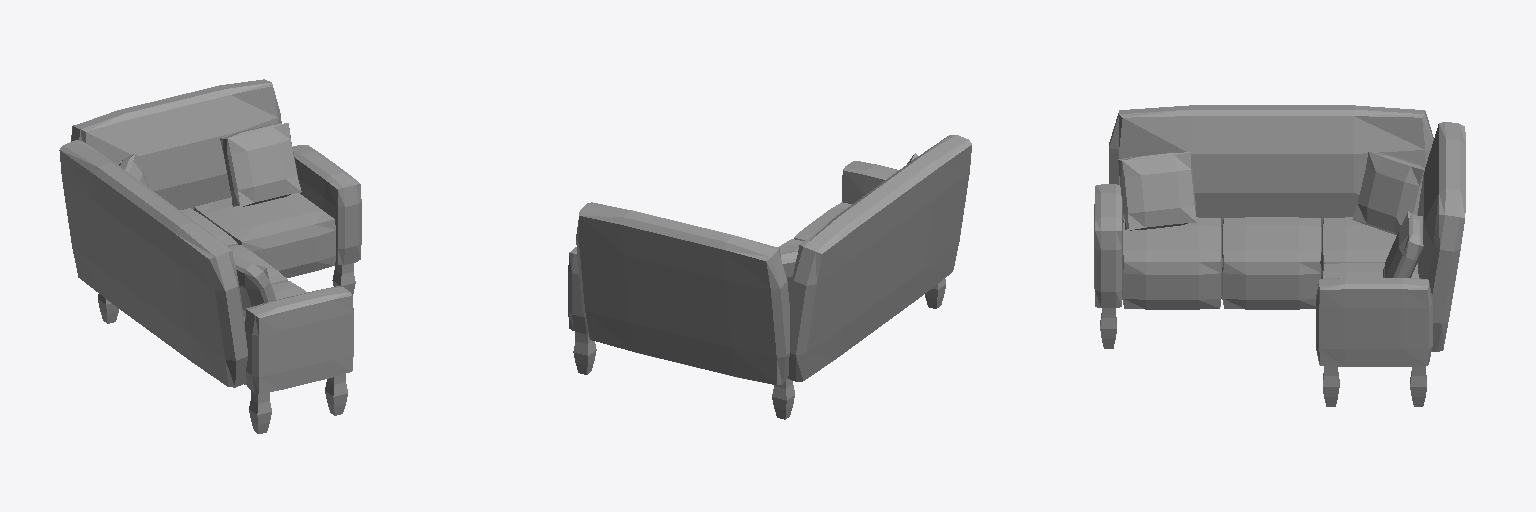
File: simple_corner_sofa_1.obj
3 renders of one model, left to right at view 1: azimuth 30°, elevation 25°; view 2: azimuth 150°, elevation 25°; view 3: azimuth 270°, elevation 25°, orthographic.
Visible parts, largest first — view 1: Cube.010; view 2: Cube.010; view 3: Cube.010.
Boxes of the visible parts, box(x1,y1,x2,y2) form: Cube.010: box(59, 79, 361, 433); Cube.010: box(568, 135, 971, 419); Cube.010: box(1094, 105, 1465, 406).
Bounding box in the file's own units: 5.97 × 4.23 × 7.62.